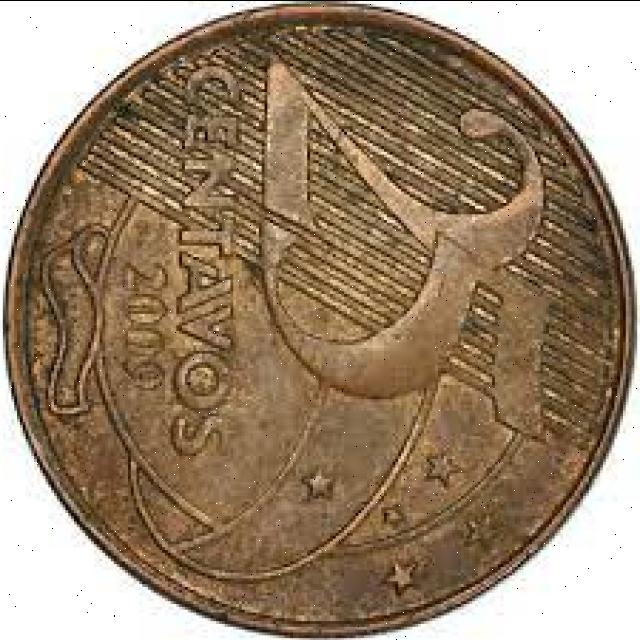25 cent: (13, 21, 639, 635)
